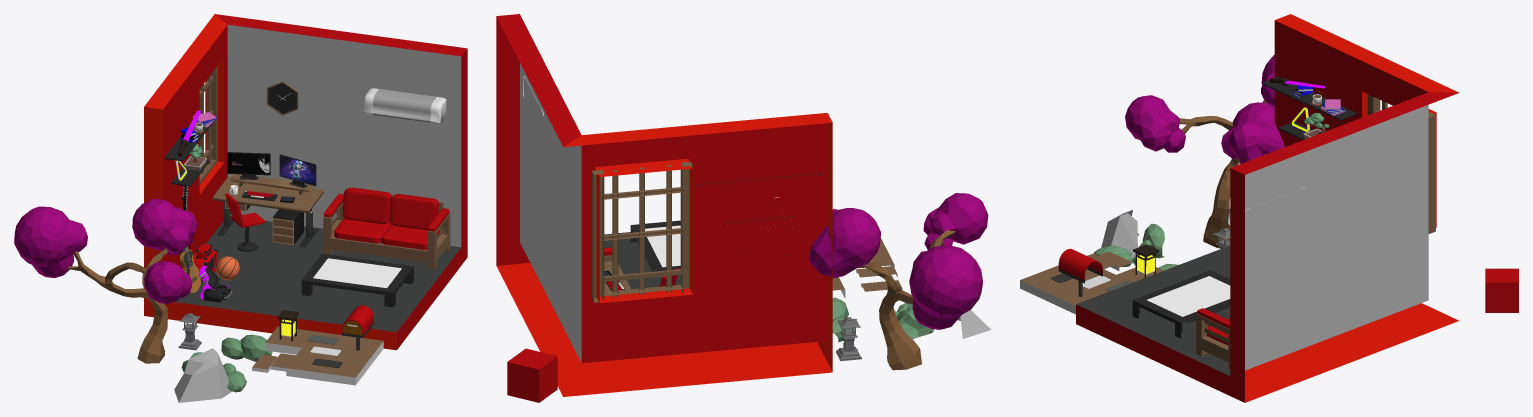
File: room_v31.glb
The picture shows the model from 3 angles, left to right: view 1: azimuth 30°, elevation 25°; view 2: azimuth 150°, elevation 25°; view 3: azimuth 270°, elevation 25°; orthographic projection. The views are drawn at different scales.
Parts seen in each view (by area): view 1: Body, DecoExt, Furnitures, MiniFloor, Hobbies, AirConditioner, Computers, Shelves, FloorItems, TableStuff, Clock, Mailbox (+1 smaller); view 2: Body, DecoExt, Cube, Furnitures, MiniFloor; view 3: Body, DecoExt, Furnitures, MiniFloor, Shelves, Cube, Mailbox, ExteriorLamp.
Part boxes in pixels (x1,y1,x2,y2): Body: [144, 14, 467, 350]; DecoExt: [14, 199, 272, 402]; Furnitures: [212, 176, 450, 307]; MiniFloor: [265, 326, 383, 385]; Hobbies: [179, 186, 239, 302]; AirConditioner: [363, 88, 446, 124]; Computers: [227, 152, 316, 188]; Shelves: [164, 110, 217, 186]; FloorItems: [225, 193, 303, 251]; TableStuff: [229, 174, 313, 202]; Clock: [267, 81, 298, 115]; Mailbox: [342, 305, 373, 350]; Body: [496, 14, 832, 396]; DecoExt: [809, 193, 991, 370]; Cube: [507, 348, 557, 402]; Furnitures: [604, 220, 680, 291]; MiniFloor: [832, 238, 894, 298]; Body: [1076, 14, 1459, 402]; DecoExt: [1094, 54, 1284, 270]; Furnitures: [1132, 270, 1230, 369]; MiniFloor: [1020, 265, 1163, 314]; Shelves: [1262, 76, 1356, 140]; Cube: [1485, 268, 1518, 312]; Mailbox: [1058, 248, 1102, 296]; ExteriorLamp: [1133, 244, 1159, 277].
Bounding box in the file's own units: 7.35 × 3.72 × 6.83.
75 materials, 4 textured.
